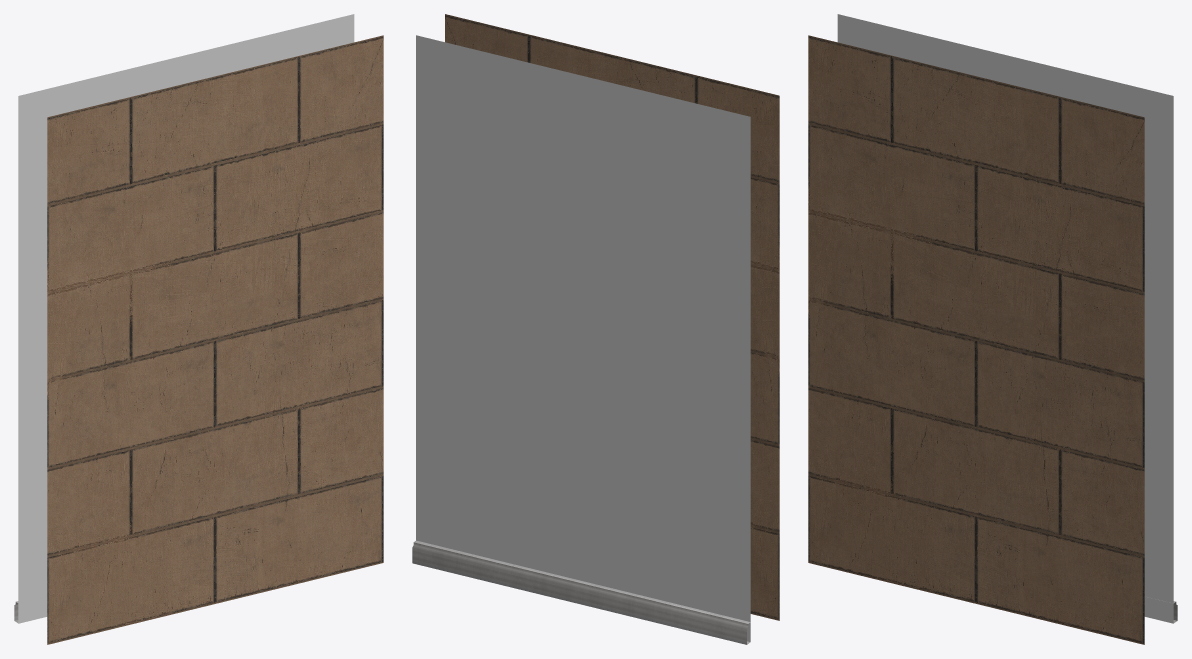
Rendered from House_01_Wall_04.fbx.
The picture shows the model from 3 angles, left to right: view 1: azimuth 30°, elevation 25°; view 2: azimuth 150°, elevation 25°; view 3: azimuth 330°, elevation 25°; orthographic projection.
Visible parts, largest first — view 1: House_01_Wall_04; view 2: House_01_Wall_04; view 3: House_01_Wall_04.
Boxes of the visible parts, x1=… form: House_01_Wall_04: x1=14, y1=14, x2=383, y2=644; House_01_Wall_04: x1=412, y1=14, x2=779, y2=644; House_01_Wall_04: x1=808, y1=14, x2=1177, y2=644.
Size of the model in its own units: 200 by 300 by 33.93.
